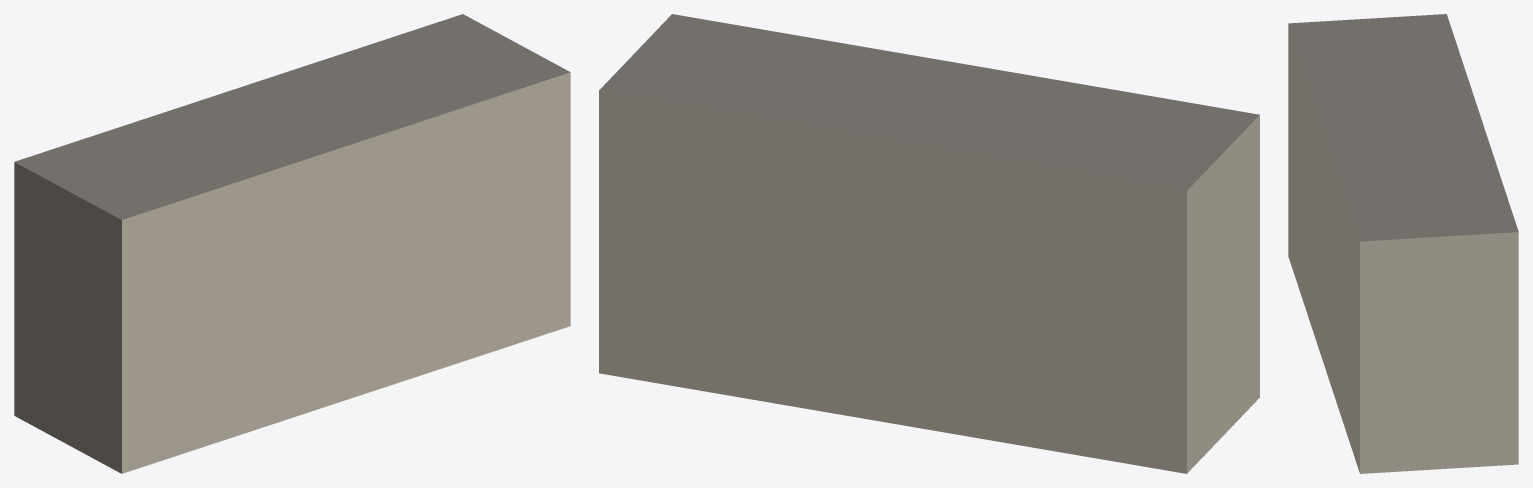
3 renders of one model, left to right at view 1: azimuth 30°, elevation 25°; view 2: azimuth 150°, elevation 25°; view 3: azimuth 270°, elevation 25°, orthographic. The views are drawn at different scales.
Parts seen in each view (by area): view 1: HP-w1286956112; view 2: HP-w1286956112; view 3: HP-w1286956112.
Boxes of the visible parts, x1,y1,x2,y2 form: HP-w1286956112: (14,14,570,473); HP-w1286956112: (599,14,1259,473); HP-w1286956112: (1288,14,1518,473).
Size of the model in its own units: 37.79 by 18 by 16.19.
